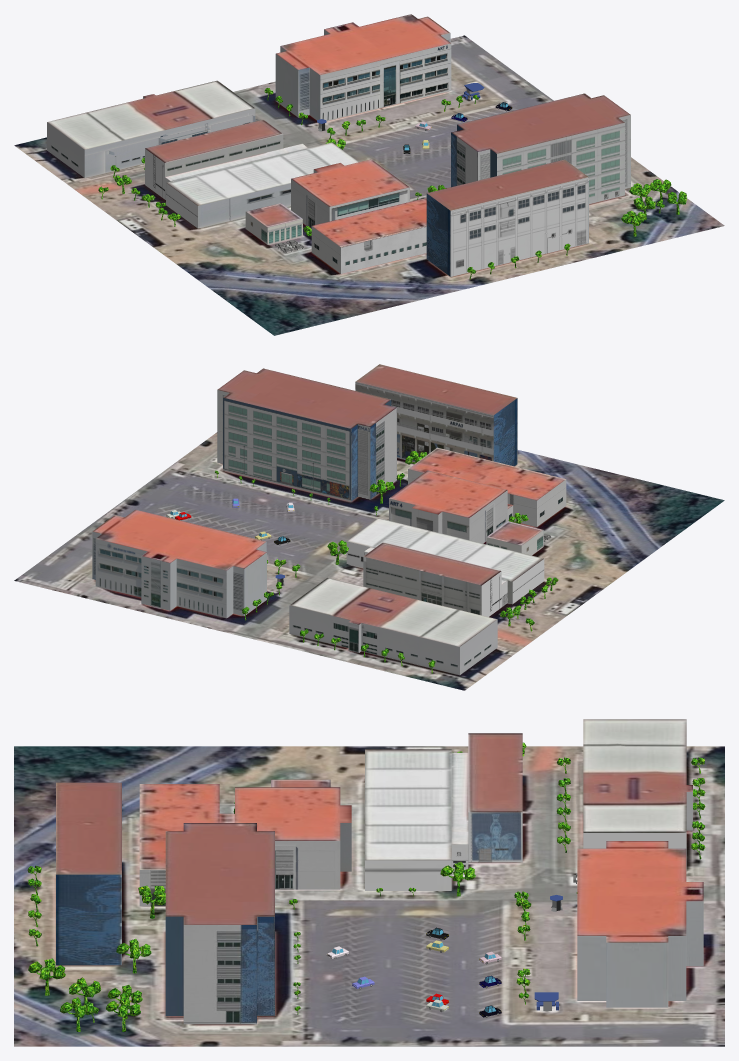
File: mapa.glb
3 views of the same model, one above another, from view 1: azimuth 30°, elevation 25°; view 2: azimuth 150°, elevation 25°; view 3: azimuth 270°, elevation 25° (orthographic). The views are drawn at different scales.
Visible parts, largest first — view 1: PISO, ART3, ARPA3, ART2, EMA, ART4, ART1, ARBOLES, ARTy; view 2: PISO, EMA, ART3, ART2, ART1, ART4, ARPA3, ARBOLES, ARTy, AUTOS.003; view 3: PISO, EMA, ART2, ART3, ART4, ART1, ARPA3, ARBOLES, AUTOS.003, ARTy.
Boxes of the visible parts, x1,y1,x2,y2 form: PISO: (14, 35, 724, 335); ART3: (275, 14, 451, 121); ARPA3: (426, 159, 588, 276); ART2: (145, 119, 358, 228); EMA: (451, 93, 630, 203); ART4: (291, 159, 426, 273); ART1: (47, 80, 255, 177); ARBOLES: (98, 88, 686, 279); ARTy: (245, 203, 302, 244); PISO: (14, 432, 724, 690); EMA: (217, 368, 396, 501); ART3: (92, 509, 266, 618); ART2: (346, 518, 544, 616); ART1: (289, 577, 497, 675); ART4: (389, 447, 566, 543); ARPA3: (355, 364, 517, 466); ARBOLES: (215, 451, 558, 673); ARTy: (486, 521, 543, 555); AUTOS.003: (166, 498, 294, 545); PISO: (14, 746, 724, 1046); EMA: (165, 823, 274, 1024); ART2: (365, 733, 522, 890); ART3: (577, 841, 703, 1007); ART4: (139, 784, 351, 906); ART1: (583, 719, 692, 871); ARPA3: (56, 782, 121, 965); ARBOLES: (27, 742, 705, 1031); AUTOS.003: (326, 927, 501, 1017); ARTy: (271, 779, 330, 787).
Bounding box in the file's own units: 54.46 × 8.49 × 54.46.
Materials: 144 (23 with a texture image).
